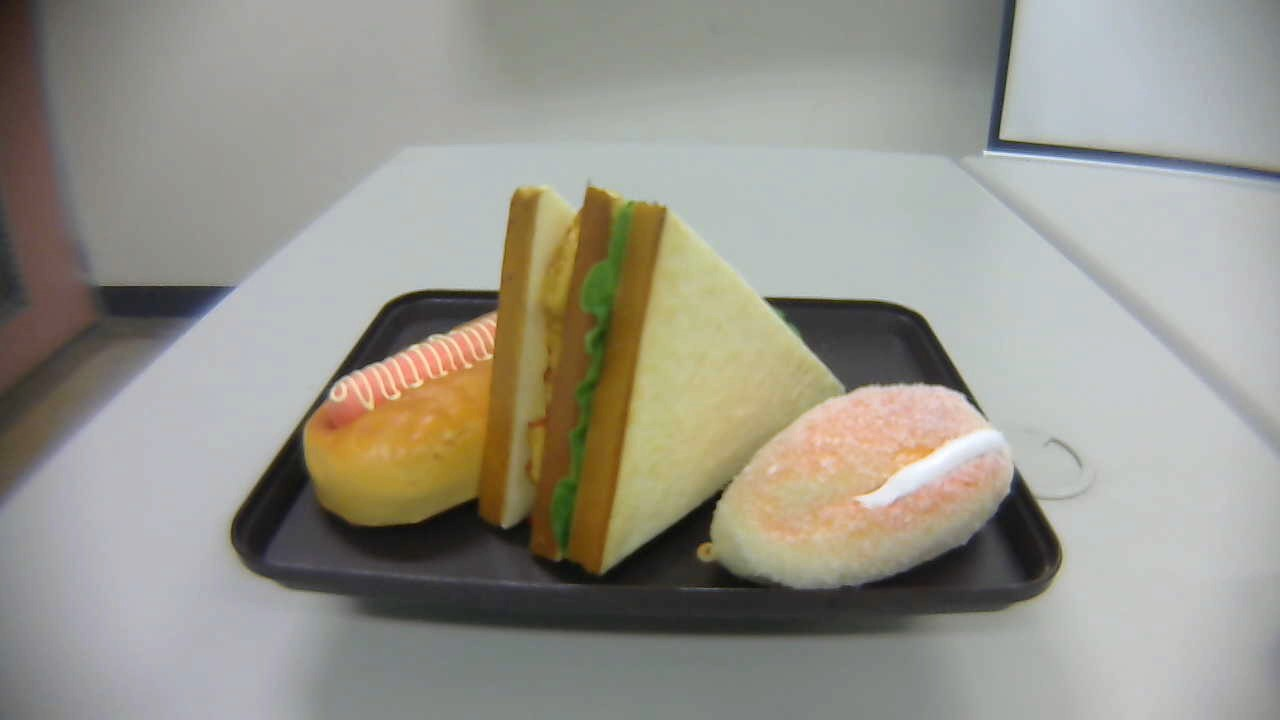coconut: (696, 381, 1012, 592)
hot dog: (302, 306, 579, 529)
sandwich: (479, 186, 848, 576)
